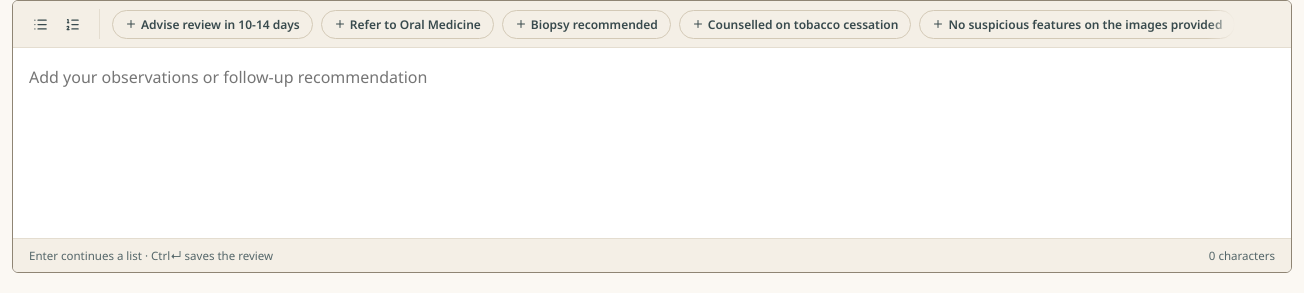
it: NotesEditor › does not open with a blank first line when the note is empty
What coordinates should you click on to do the following:
click the button "Biopsy recommended"
I would click on:
 (586, 24)
Its box is [502,10,671,38].
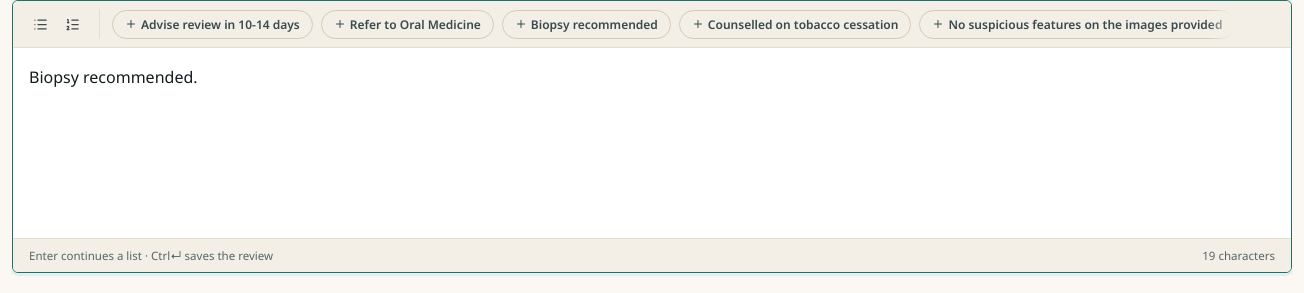
Check: the text box holds "Biopsy recommended."
